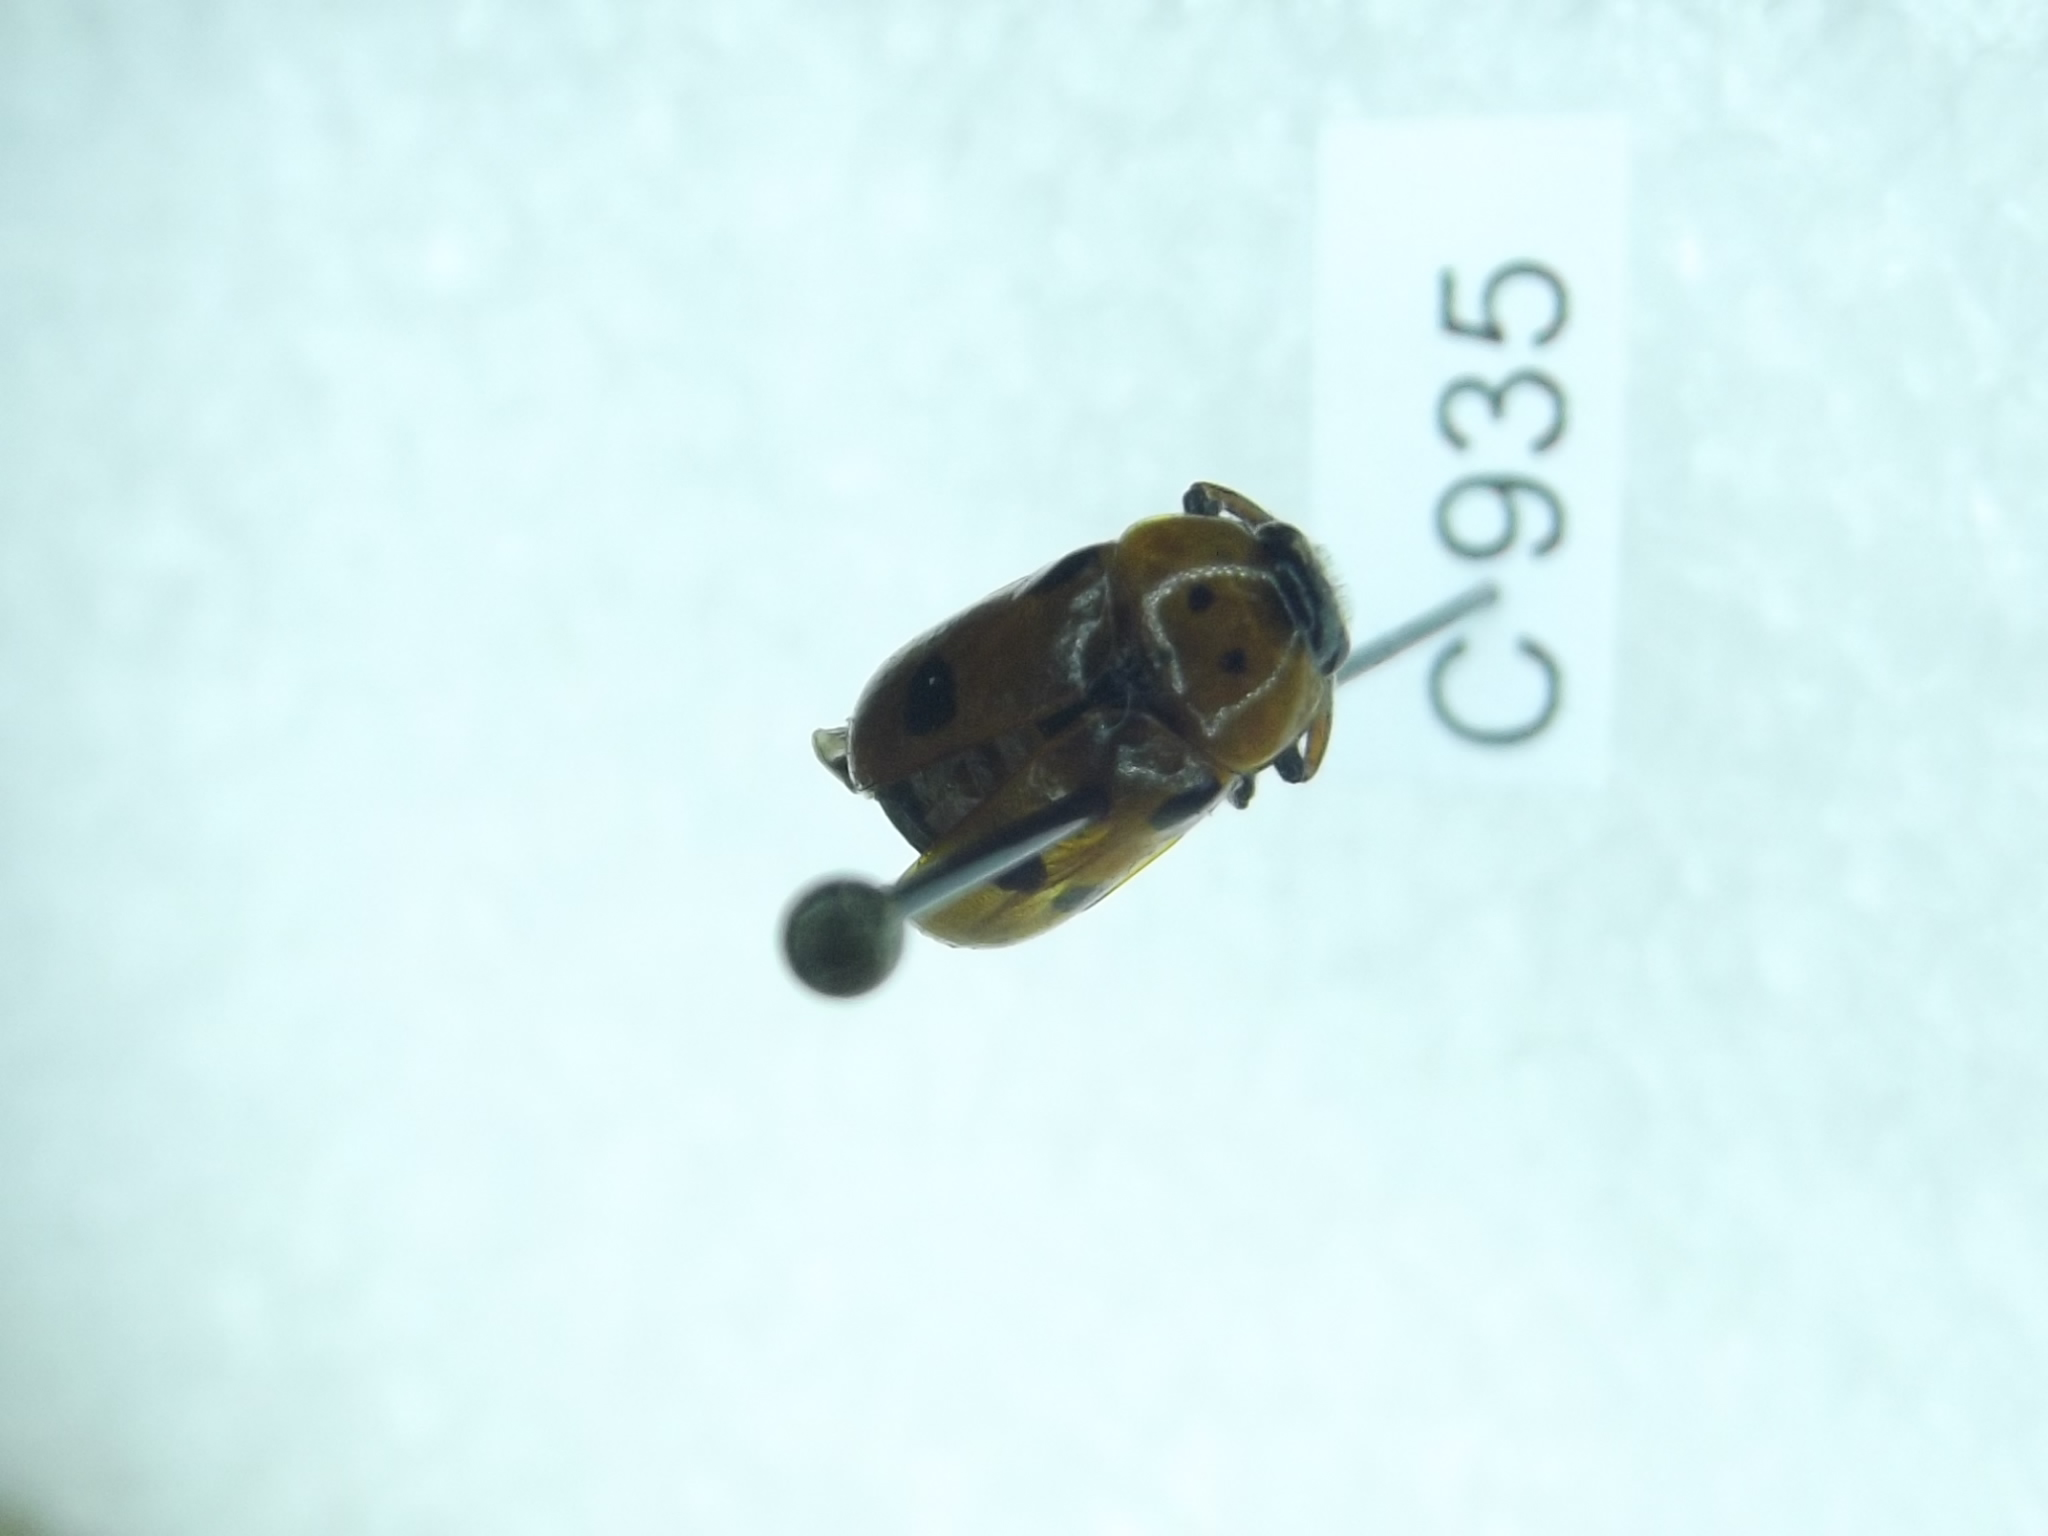Clytra_novempunctata: (798, 461, 1350, 966)
